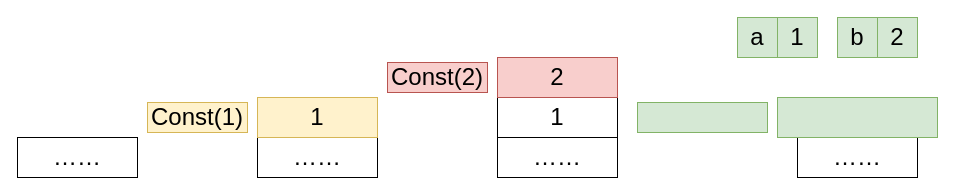
This 955x195 diagram has some shape labels left out. Here are the shapes that lost their labels. From the top down, the centre of each, then its label:
the point at 702,117: Call("add")
the point at 857,117: Function(1)
